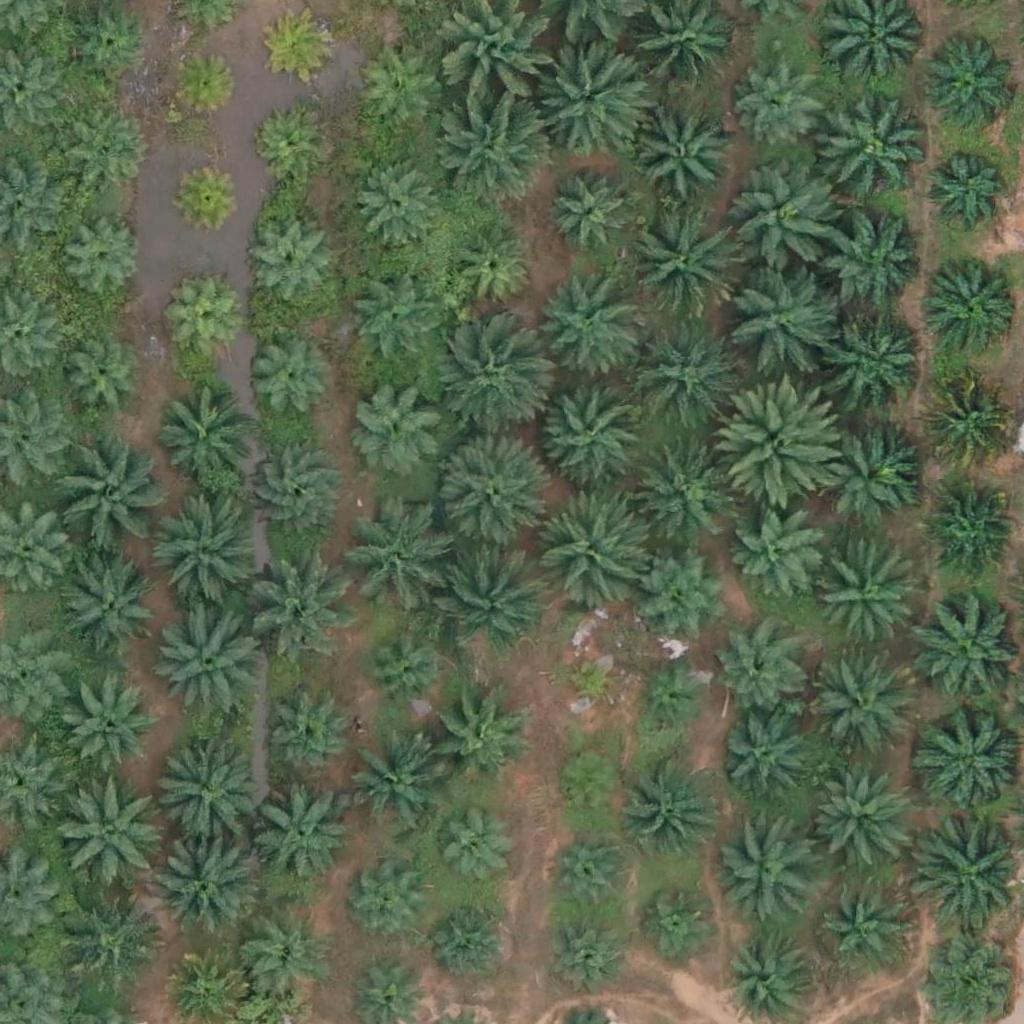Kelapa_Sawit: (720, 381, 845, 507), (722, 259, 835, 373), (146, 602, 259, 716), (624, 207, 737, 320), (628, 319, 741, 432), (535, 374, 648, 487), (432, 435, 545, 548), (151, 829, 264, 942), (143, 733, 256, 846), (816, 90, 929, 203), (439, 92, 552, 205), (729, 165, 842, 278), (432, 537, 544, 651), (149, 498, 261, 612), (51, 775, 163, 889), (528, 275, 640, 388), (533, 492, 645, 605), (430, 326, 542, 439), (243, 543, 355, 656), (47, 437, 159, 550), (535, 39, 647, 152), (922, 252, 1022, 353), (829, 311, 929, 412), (815, 548, 915, 649), (810, 660, 910, 761), (806, 768, 906, 869), (632, 440, 732, 541), (634, 541, 734, 642), (426, 689, 526, 790), (340, 738, 440, 839), (340, 510, 440, 611), (250, 786, 350, 887), (153, 386, 253, 487), (56, 554, 156, 655), (58, 891, 158, 992), (635, 104, 735, 205), (625, 755, 725, 856), (824, 218, 924, 318), (814, 418, 914, 518), (717, 820, 817, 920), (347, 376, 447, 476), (245, 444, 345, 544), (919, 38, 1019, 138), (921, 376, 1009, 464), (714, 628, 802, 716), (539, 911, 627, 999), (447, 225, 535, 313), (361, 627, 449, 715), (242, 218, 330, 306), (68, 687, 156, 775), (64, 116, 152, 204), (920, 145, 1008, 233), (547, 170, 635, 258), (355, 49, 443, 137), (717, 715, 804, 804), (347, 275, 434, 364), (924, 484, 1011, 572), (824, 886, 911, 974), (726, 935, 813, 1023), (732, 508, 819, 596), (549, 830, 636, 918), (244, 334, 331, 422), (266, 696, 353, 784), (243, 916, 330, 1004), (60, 214, 147, 302), (57, 338, 144, 426), (738, 64, 825, 152), (354, 158, 441, 246), (249, 104, 324, 180), (432, 813, 507, 889), (434, 901, 509, 977), (633, 661, 708, 737), (552, 748, 627, 824), (166, 284, 241, 360), (171, 157, 246, 233), (264, 8, 339, 84), (640, 883, 715, 958), (352, 868, 427, 943), (166, 47, 241, 122), (559, 649, 621, 712)
